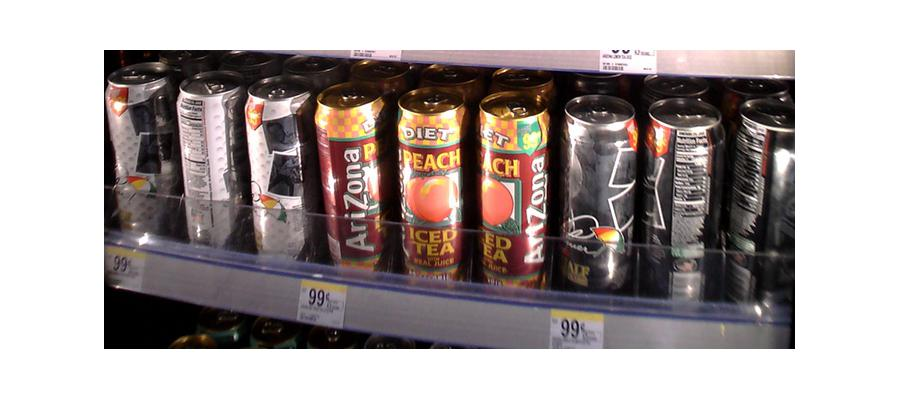bottle: (643, 97, 721, 303), (561, 94, 636, 298), (478, 85, 549, 295), (730, 100, 794, 315), (396, 86, 465, 284), (316, 87, 385, 275), (243, 78, 311, 264), (105, 61, 174, 244), (176, 74, 240, 252)
